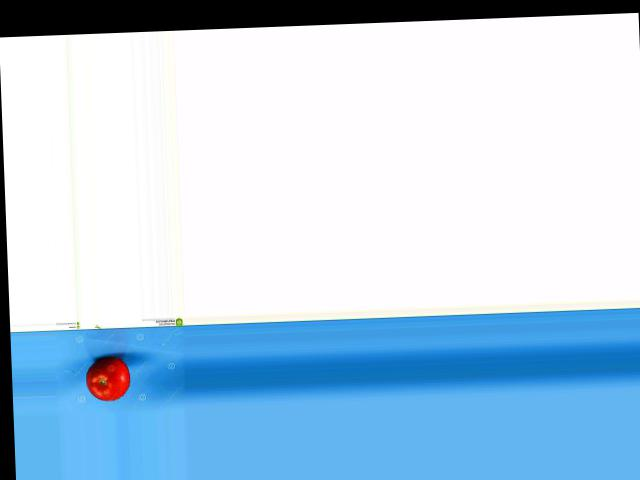tomato: (84, 357, 130, 401)
